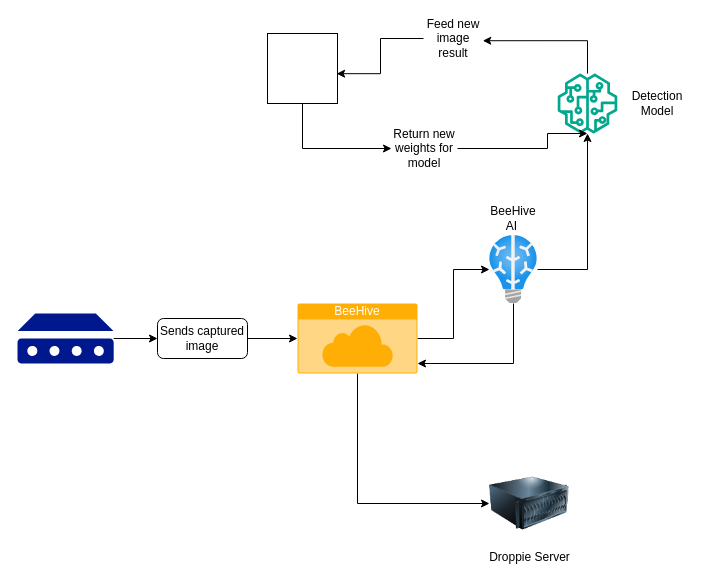
The diagram is 704 pixels wide and 582 high, and some of its shapes have lost their labels. Each missing label, with the centre of its shape:
Device: pixel 65 338
Reinforced Learning: pixel 302 68
